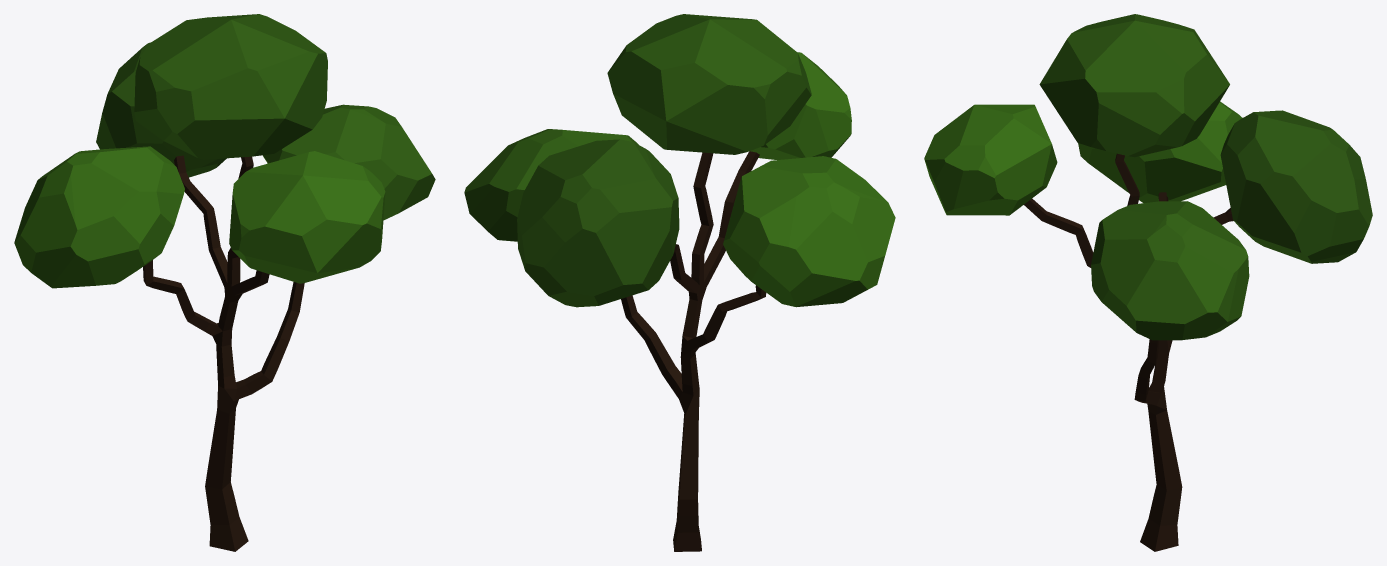
File: Tree.glb
3 renders of one model, left to right at view 1: azimuth 30°, elevation 25°; view 2: azimuth 150°, elevation 25°; view 3: azimuth 270°, elevation 25°, orthographic. The views are drawn at different scales.
Visible parts, largest first — view 1: Leaf 1, Leaf 5, Leaf 4, Tree Trunk, Leaf 2, Leaf 3; view 2: Leaf 3, Leaf 1, Leaf 5, Tree Trunk, Leaf 2, Leaf 4; view 3: Leaf 1, Leaf 2, Leaf 3, Leaf 4, Tree Trunk, Leaf 5.
Boxes of the visible parts, x1,y1,x2,y2 form: Leaf 1: (134,14,327,159); Leaf 5: (14,146,184,288); Leaf 4: (229,151,385,283); Tree Trunk: (143,155,304,551); Leaf 2: (263,104,435,220); Leaf 3: (96,42,226,177); Leaf 3: (517,139,679,307); Leaf 1: (607,14,811,154); Leaf 5: (723,156,895,307); Tree Trunk: (621,151,766,551); Leaf 2: (464,129,638,241); Leaf 4: (750,52,851,159); Leaf 1: (1039,14,1229,157); Leaf 2: (1091,201,1249,340); Leaf 3: (1220,110,1372,263); Leaf 4: (924,104,1057,215); Tree Trunk: (1024,153,1233,551); Leaf 5: (1078,101,1242,203).
Size of the model in its own units: 16.39 by 20.84 by 16.35.
